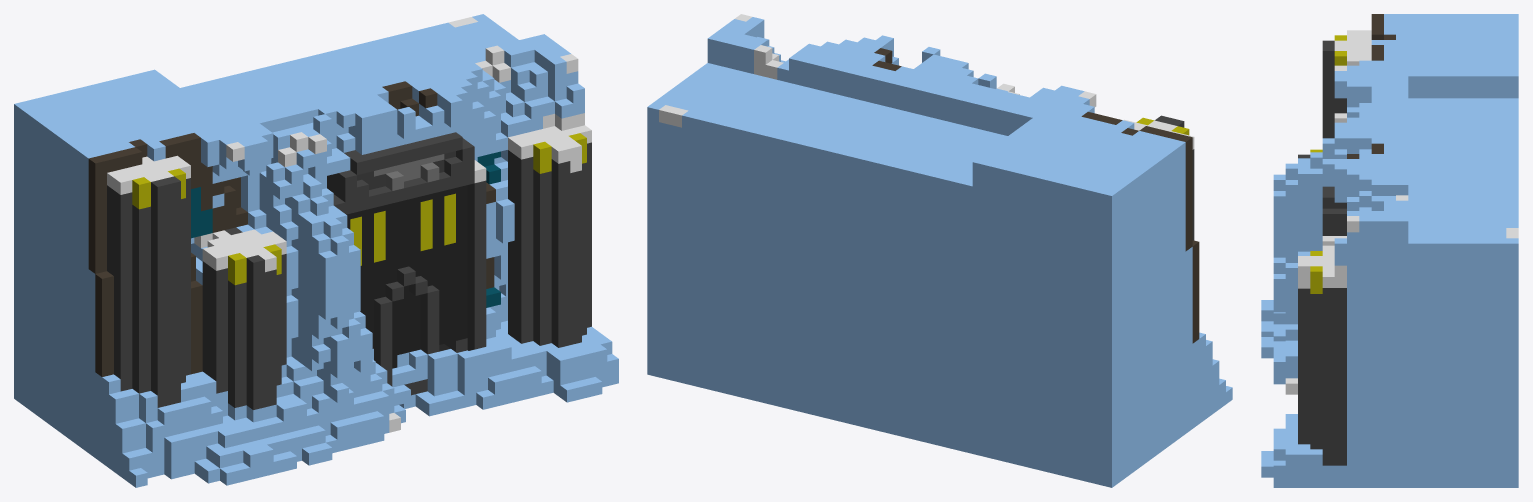
The model's file is snow6.obj.
The picture shows the model from 3 angles, left to right: view 1: azimuth 30°, elevation 25°; view 2: azimuth 150°, elevation 25°; view 3: azimuth 270°, elevation 25°; orthographic projection. The views are drawn at different scales.
Size of the model in its own units: 4 by 2.4 by 2.1.
Materials: 1 (1 with a texture image).
